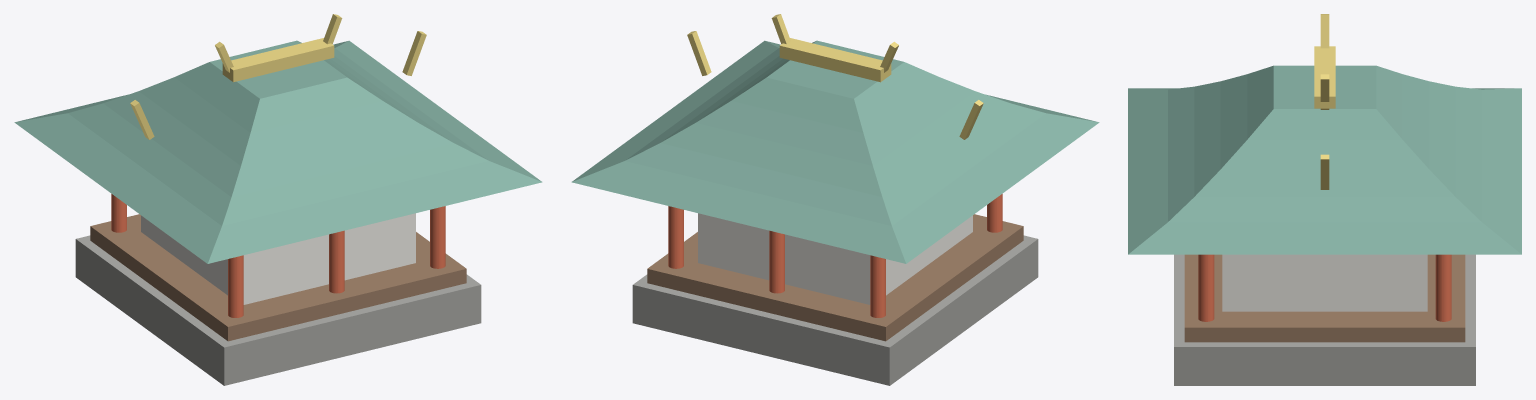
The model's file is shrine_01.glb.
3 views of the same model, side by side, from view 1: azimuth 30°, elevation 25°; view 2: azimuth 150°, elevation 25°; view 3: azimuth 270°, elevation 25° (orthographic).
Parts seen in each view (by area): view 1: Shrine_01; view 2: Shrine_01; view 3: Shrine_01.
Part boxes in pixels (box(x1,y1,x2,y2)): Shrine_01: box(14, 14, 542, 385); Shrine_01: box(571, 14, 1099, 385); Shrine_01: box(1128, 14, 1521, 385).
Size of the model in its own units: 7.3 by 5.64 by 7.3.
